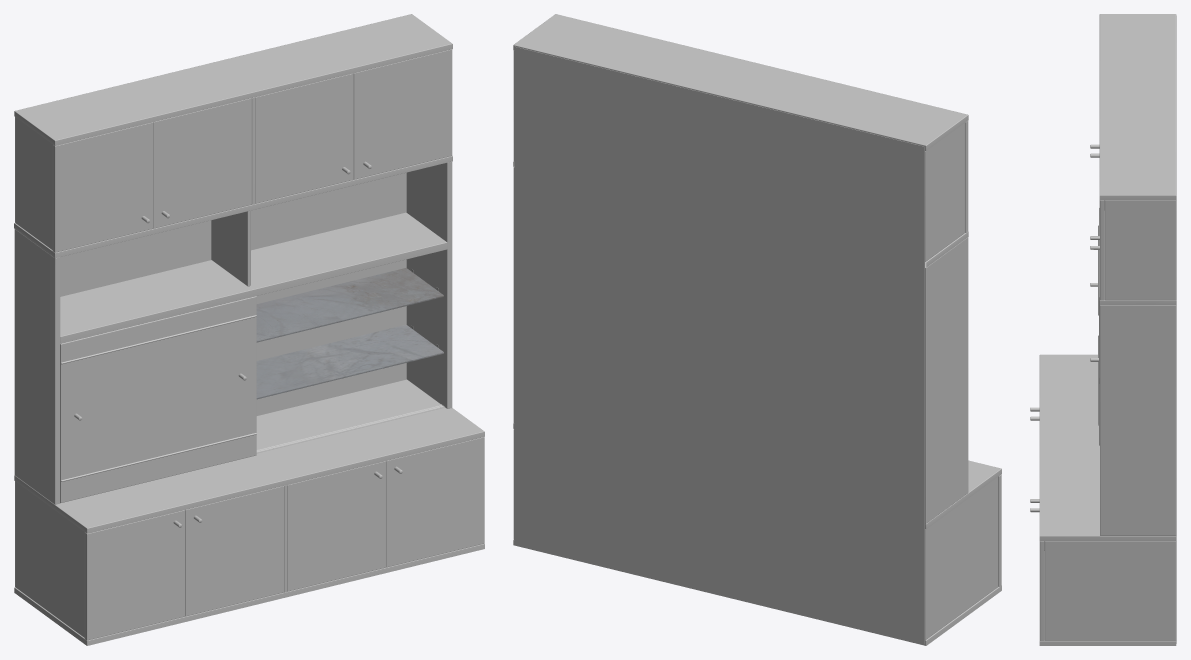
The model's file is OldSovietCabinet.fbx.
3 renders of one model, left to right at view 1: azimuth 30°, elevation 25°; view 2: azimuth 150°, elevation 25°; view 3: azimuth 270°, elevation 25°, orthographic. The views are drawn at different scales.
Visible parts, largest first — view 1: dvermedbig01, polySurface15, polySurface23, polySurface21, polySurface10, stekloPolka04, polySurface19, dverUp01, dverdown01, dverUp03, dverdown02, dverdown03 (+10 smaller); view 2: polySurface22, polySurface21, polySurface19, polySurface26, polySurface24, polySurface16, polySurface15; view 3: polySurface18, polySurface21, polySurface17, polySurface15, polySurface25, polySurface16, polySurface11, polySurface22, dverdown04, dverUp04, dvermedbig01.
Boxes of the visible parts, left/top/right/bottom form: dvermedbig01: left=60, top=296, right=256, bottom=503; polySurface15: left=14, top=379, right=484, bottom=533; polySurface23: left=60, top=172, right=406, bottom=415; polySurface21: left=14, top=14, right=452, bottom=145; polySurface10: left=60, top=212, right=447, bottom=343; stekloPolka04: left=256, top=268, right=443, bottom=399; polySurface19: left=14, top=229, right=60, bottom=504; dverUp01: left=52, top=122, right=153, bottom=252; dverdown01: left=84, top=510, right=185, bottom=640; dverUp03: left=255, top=73, right=353, bottom=203; dverdown02: left=185, top=486, right=283, bottom=616; dverdown03: left=287, top=461, right=385, bottom=591; polySurface22: left=514, top=46, right=924, bottom=644; polySurface21: left=513, top=14, right=968, bottom=150; polySurface19: left=925, top=237, right=968, bottom=523; polySurface26: left=925, top=477, right=998, bottom=640; polySurface24: left=925, top=123, right=964, bottom=261; polySurface16: left=513, top=539, right=1001, bottom=645; polySurface15: left=513, top=423, right=1001, bottom=529; polySurface18: left=1100, top=305, right=1176, bottom=535; polySurface21: left=1099, top=14, right=1176, bottom=200; polySurface17: left=1044, top=541, right=1176, bottom=640; polySurface15: left=1039, top=354, right=1176, bottom=540; polySurface25: left=1104, top=200, right=1176, bottom=300; polySurface16: left=1039, top=541, right=1176, bottom=645; polySurface11: left=1099, top=200, right=1176, bottom=305; polySurface22: left=1176, top=16, right=1176, bottom=643; dverdown04: left=1030, top=508, right=1044, bottom=640; dverUp04: left=1090, top=200, right=1104, bottom=300; dvermedbig01: left=1090, top=208, right=1099, bottom=445.
Bounding box in the file's own units: 227 × 263 × 77.23.
